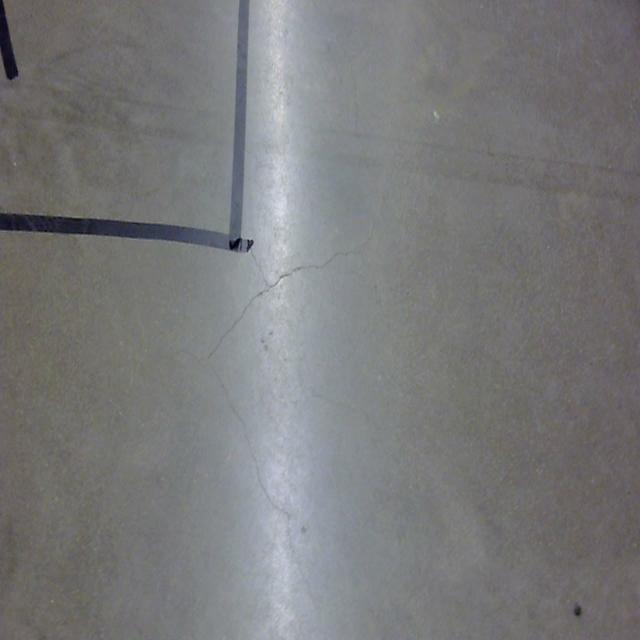tape: (0, 0, 255, 253), (0, 0, 20, 82)
